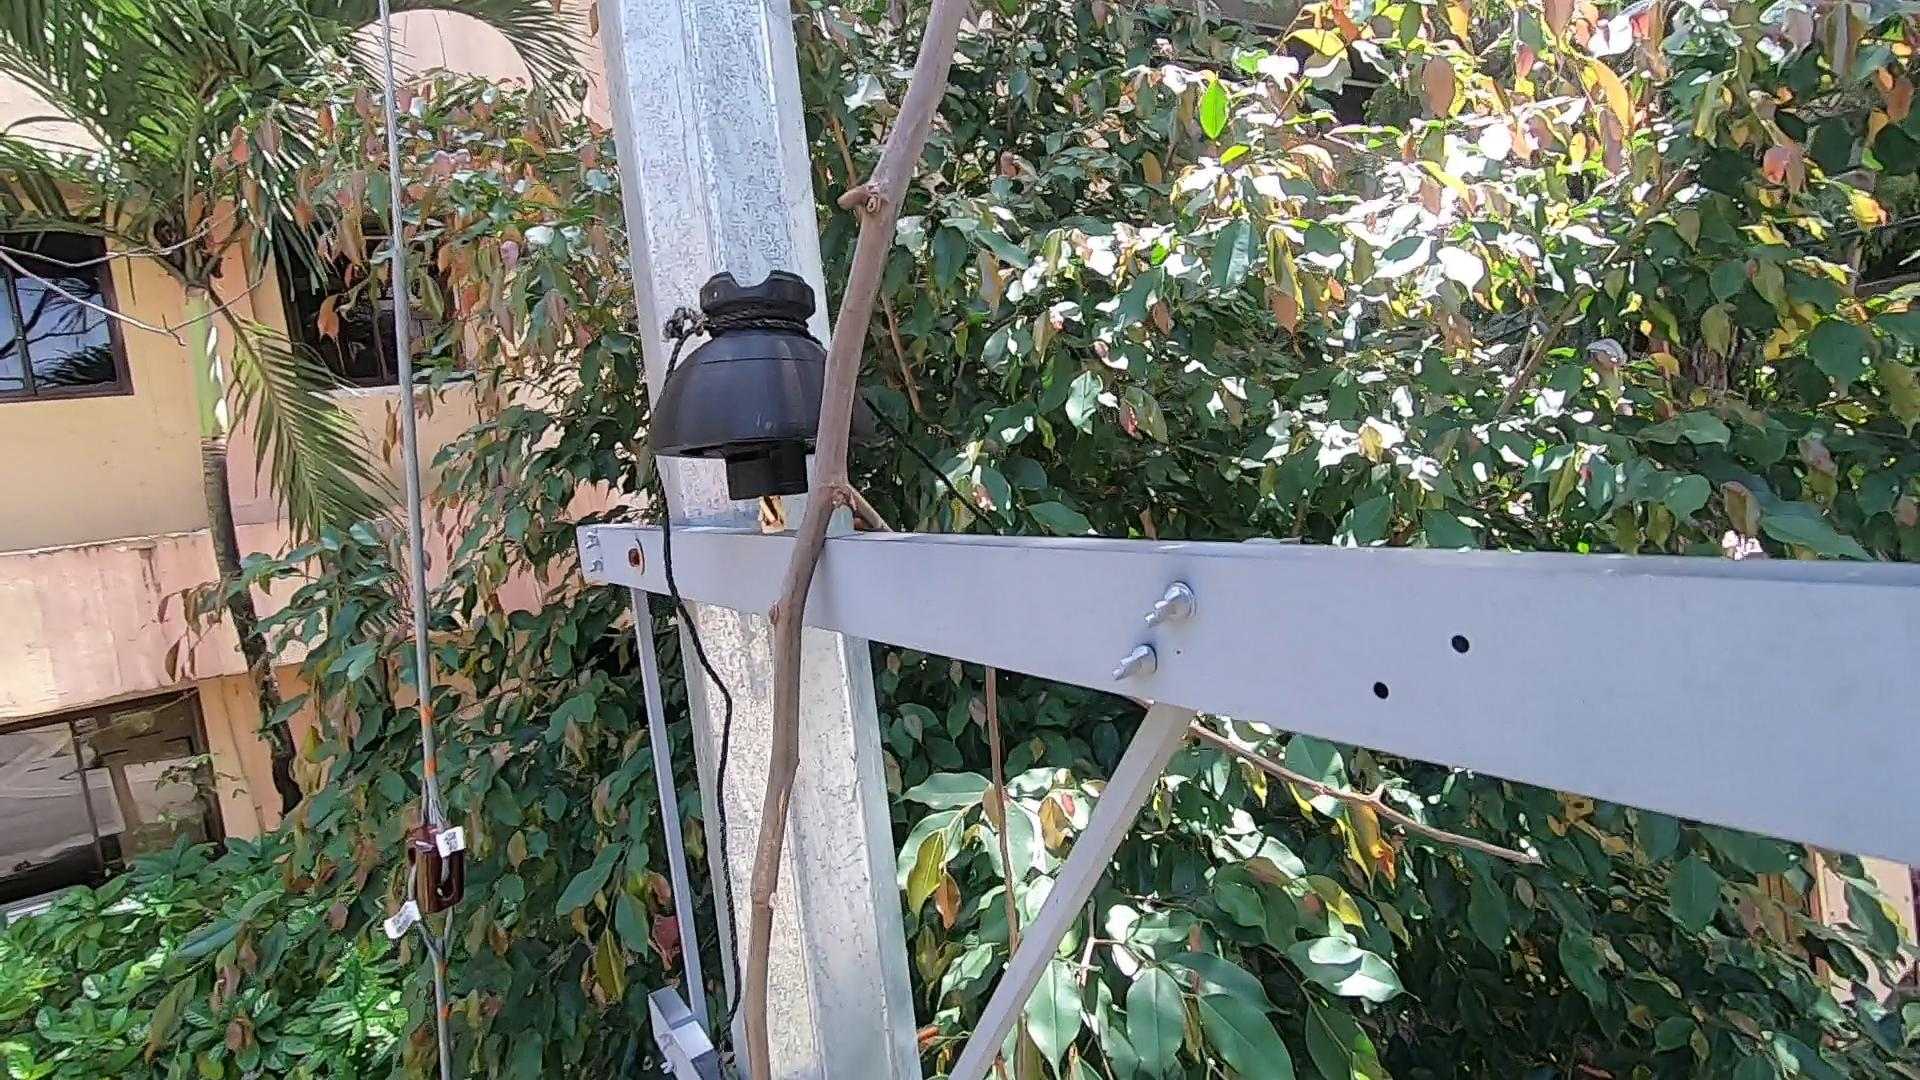tree branch: (711, 1, 956, 1080)
